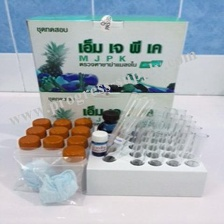book: (20, 10, 194, 97), (78, 121, 211, 202), (32, 86, 180, 151)
bottle: (43, 123, 74, 179), (15, 133, 46, 189), (39, 131, 68, 190), (59, 132, 91, 183), (20, 123, 51, 175), (27, 114, 58, 162), (59, 143, 88, 194), (47, 116, 77, 165), (71, 113, 98, 167), (65, 121, 91, 165)
insecticide: (93, 105, 127, 161), (86, 127, 111, 161)
